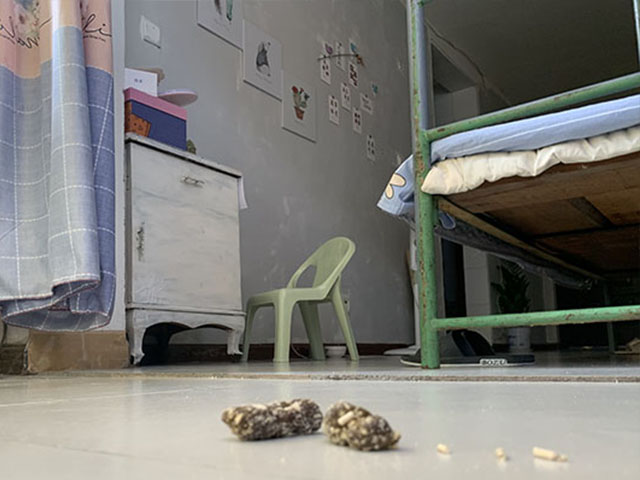bed: (404, 1, 640, 372)
cabinet: (120, 134, 253, 361)
curtain: (1, 1, 120, 334)
feces: (219, 397, 323, 443), (325, 396, 399, 451)
slippers: (395, 327, 539, 370)
stool: (244, 234, 360, 363)
